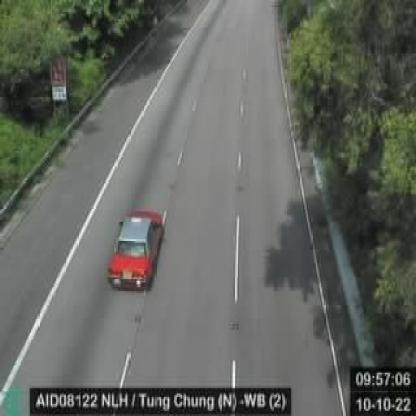Car: (105, 207, 167, 292)
